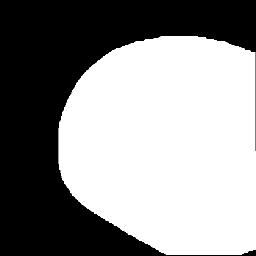mass: (56, 33, 252, 250)
